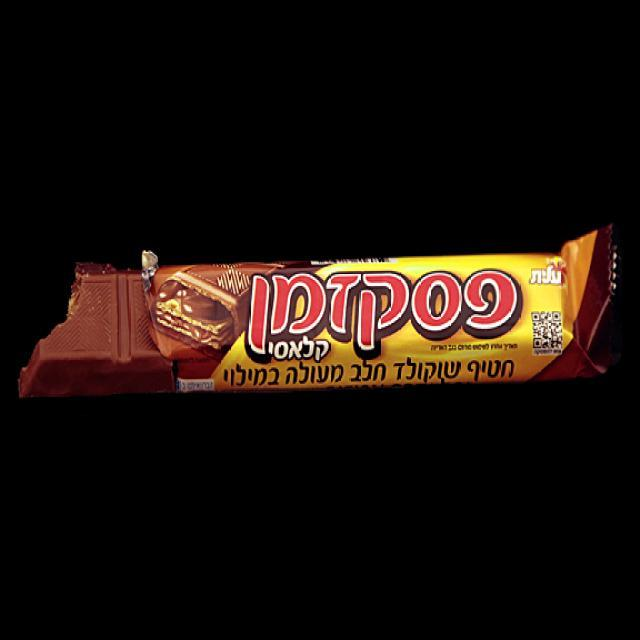Chocolate bar: (142, 233, 621, 393)
Chocolate bar packaged: (17, 253, 143, 397)
